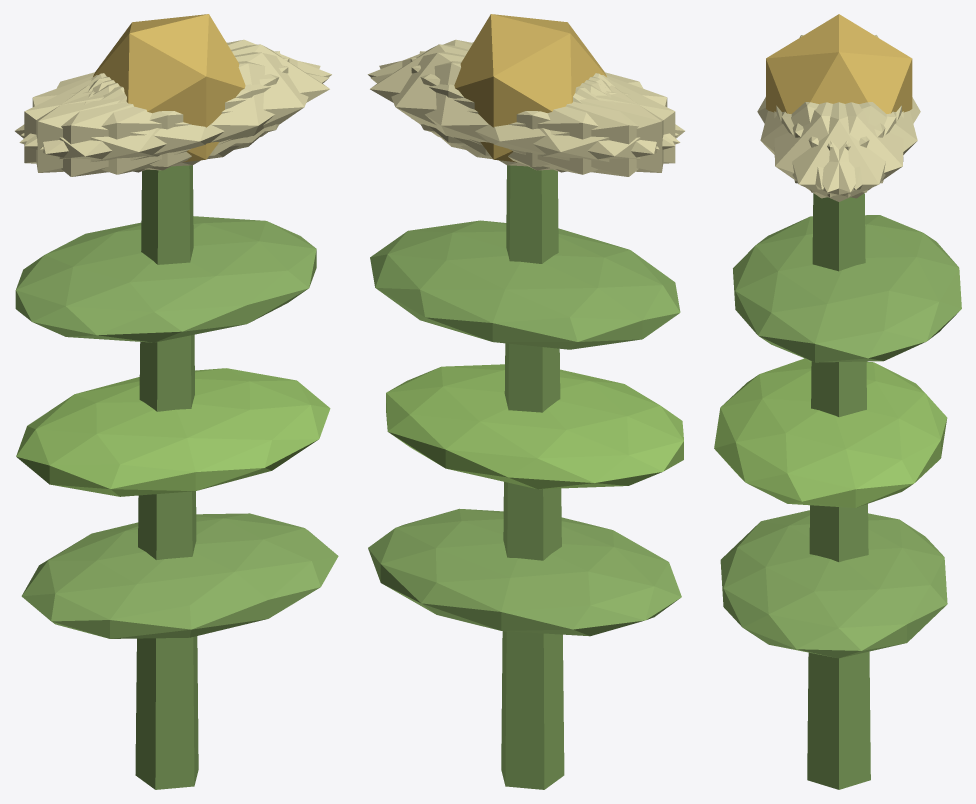
File: leea-guineensis.glb
The picture shows the model from 3 angles, left to right: view 1: azimuth 30°, elevation 25°; view 2: azimuth 150°, elevation 25°; view 3: azimuth 270°, elevation 25°; orthographic projection.
Visible parts, largest first — view 1: leaf1, leaf0, leaf2, stem, center, petal1, petal6, petal2, petal5, petal7, petal0, petal4 (+2 smaller); view 2: leaf2, leaf0, leaf1, stem, center, petal8, petal3, petal7, petal4, petal2, petal0, petal5 (+2 smaller); view 3: leaf2, leaf0, leaf1, stem, center, petal0, petal5, petal4, petal8, petal1.
Boxes of the visible parts, x1,y1,x2,y2 form: leaf1: (16,368,330,496); leaf0: (21,513,338,638); leaf2: (15,216,316,342); stem: (135,165,198,789); center: (93,14,245,162); petal1: (19,61,328,174); petal6: (15,75,238,176); petal2: (36,51,280,172); petal5: (40,52,320,166); petal7: (24,57,289,170); petal0: (92,44,329,155); petal4: (21,39,331,146); leaf2: (370,220,680,349); leaf0: (368,508,681,636); leaf1: (386,364,683,489); stem: (501,165,564,789); center: (454,14,606,162); petal8: (370,61,680,174); petal3: (461,75,684,176); petal7: (419,51,663,172); petal4: (379,52,659,166); petal2: (410,57,675,170); petal0: (370,44,607,155); petal5: (367,39,678,146); leaf2: (733,215,961,362); leaf0: (720,510,947,658); leaf1: (714,358,947,507); stem: (807,193,870,789); center: (766,14,912,113); petal0: (776,102,901,201); petal5: (774,102,896,198); petal4: (781,102,903,198); petal8: (792,102,917,189); petal1: (760,102,885,189).
Size of the model in its own units: 0.1452 by 0.3428 by 0.1037.
